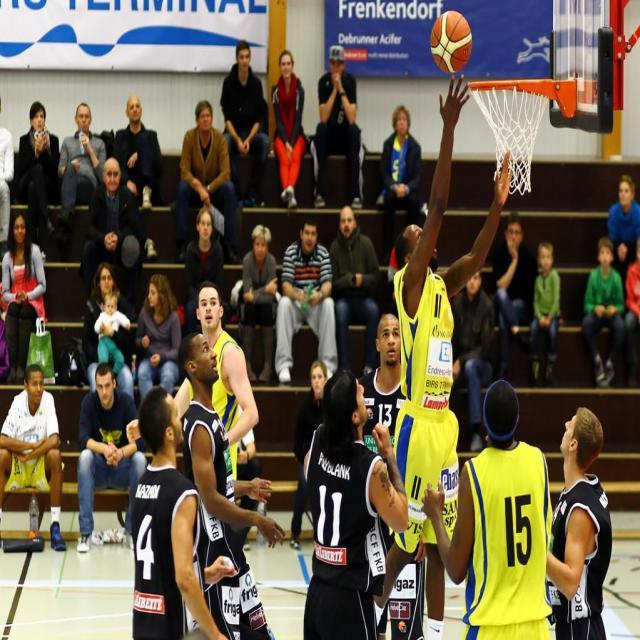rim: (431, 11, 472, 74)
